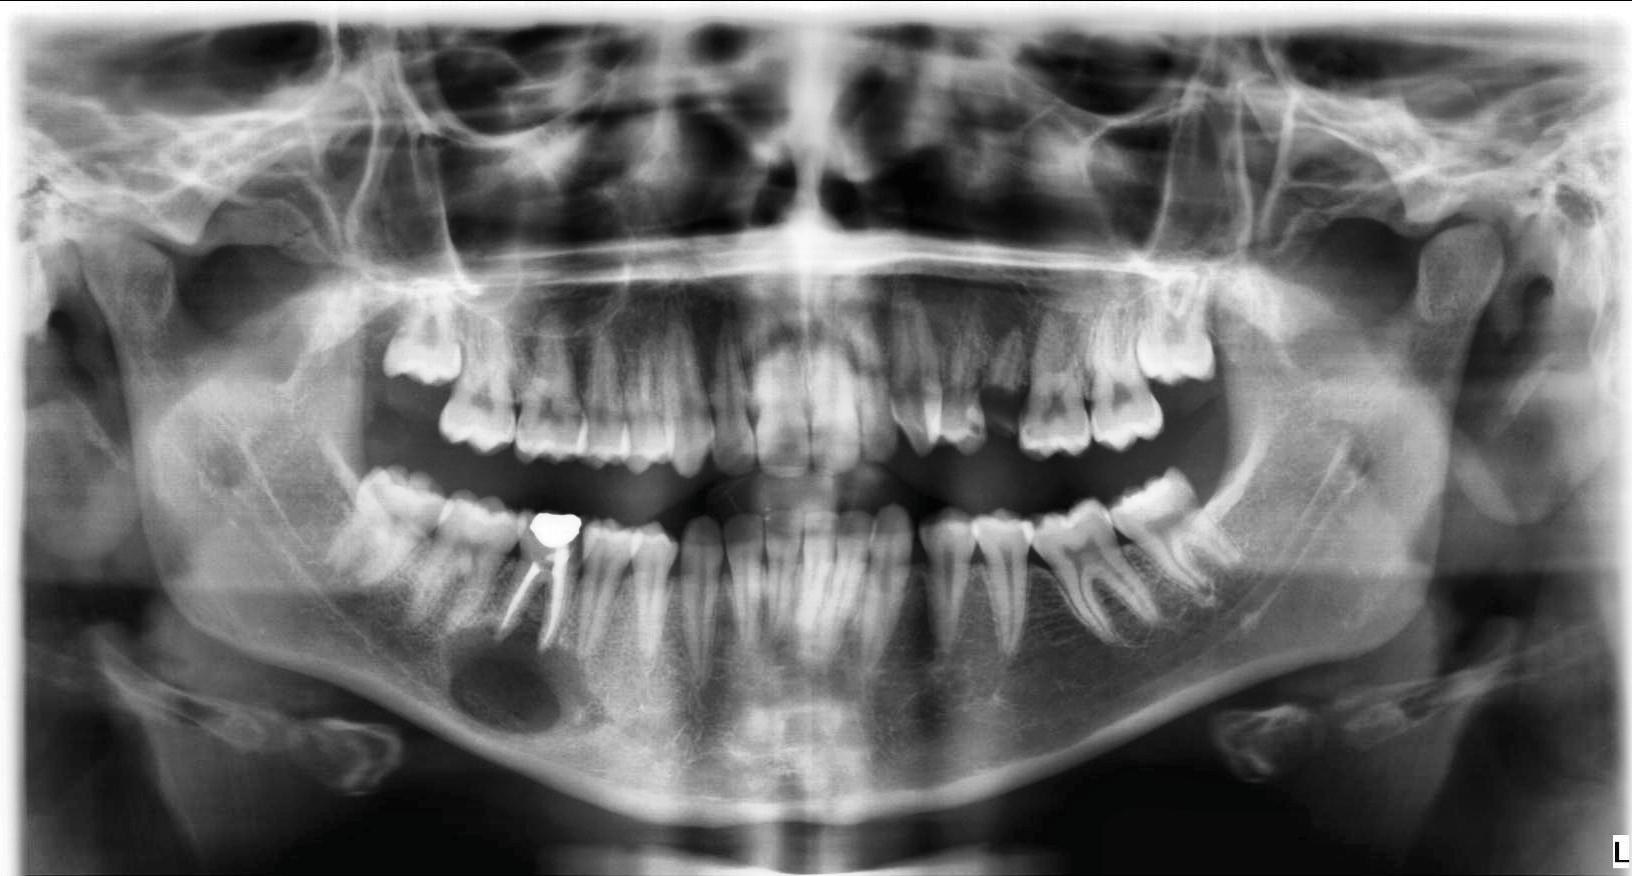radikuler: (436, 616, 605, 736)
